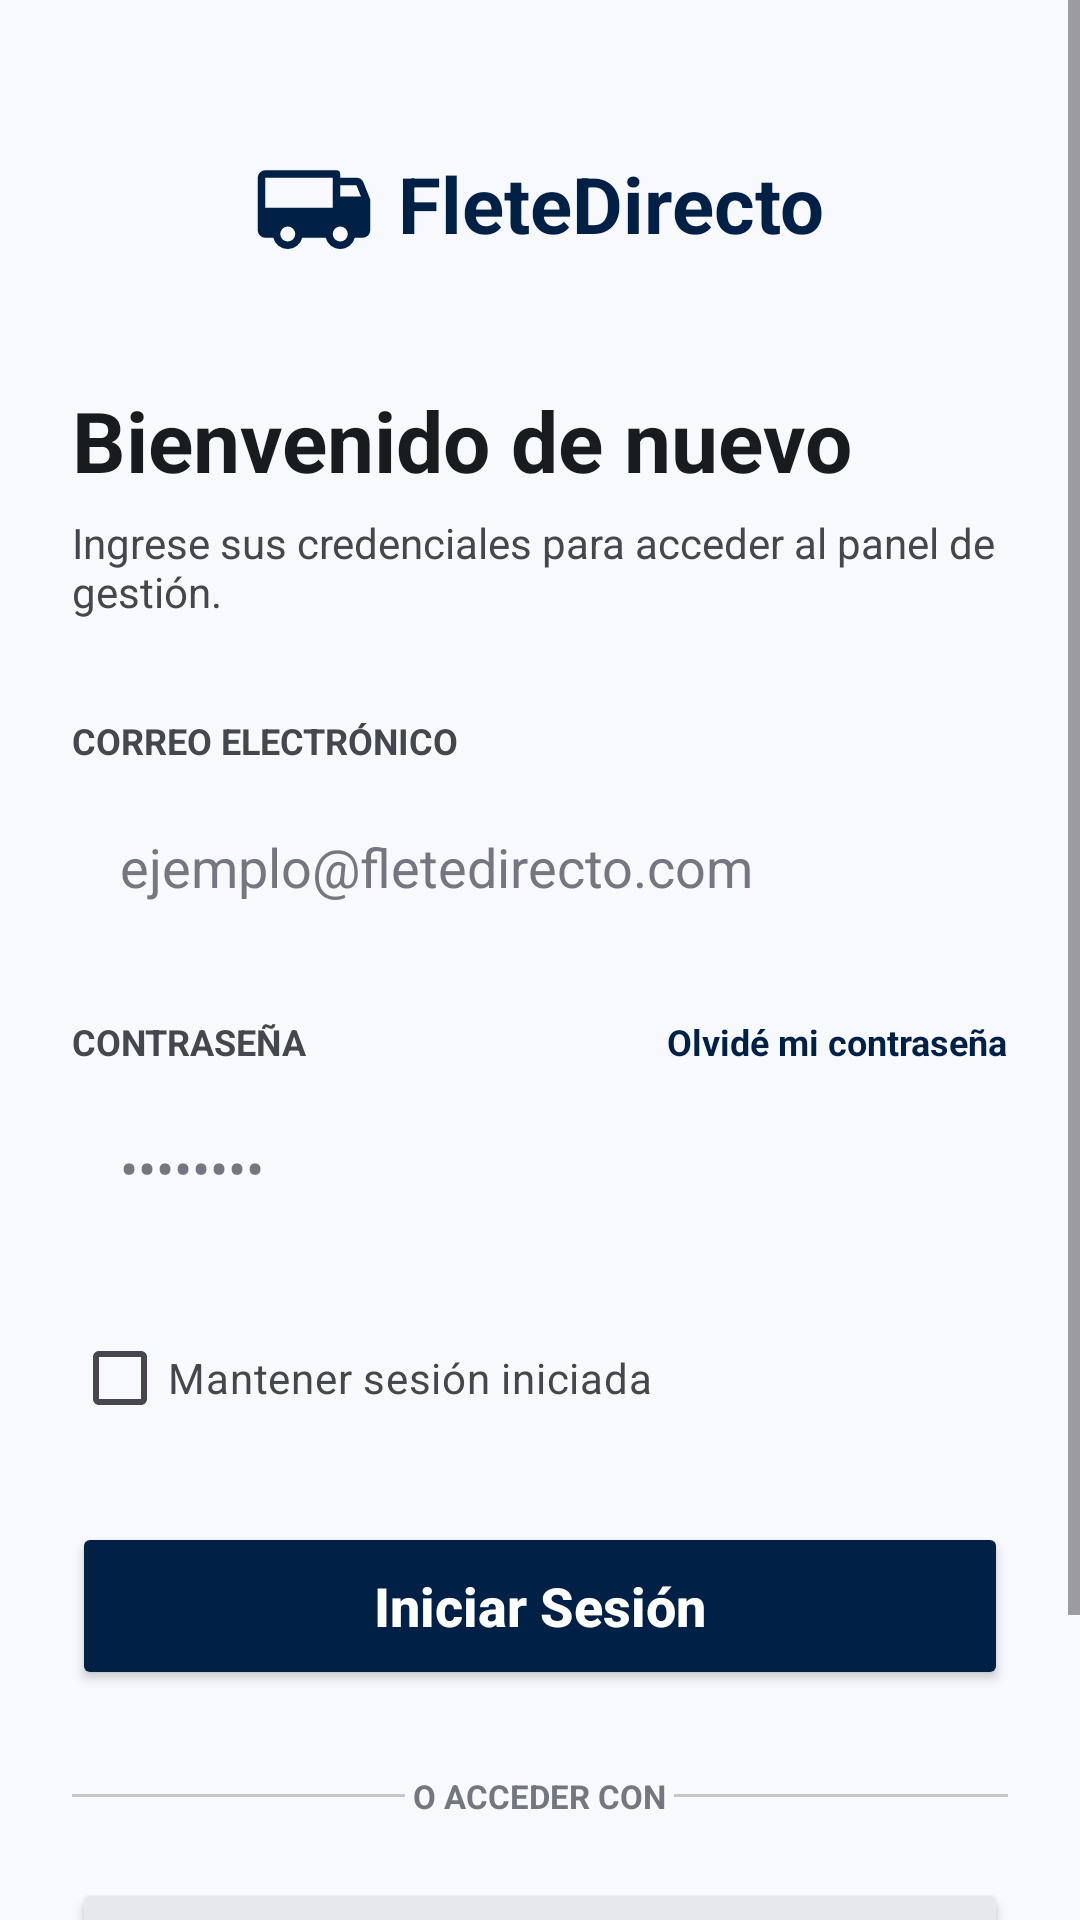

Named icons in this screenshot (1080×1920) and their centers, (x=x, y=y):
truck: (x=314, y=209)
